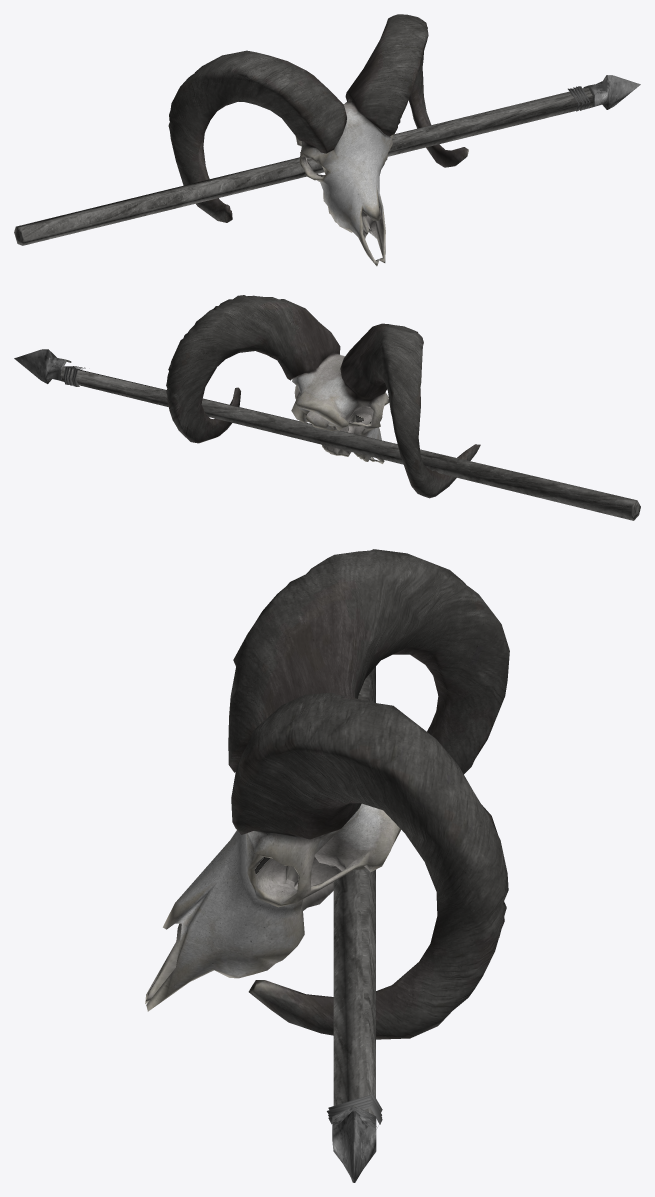
File: palka_2.glb
3 views of the same model, one above another, from view 1: azimuth 30°, elevation 25°; view 2: azimuth 150°, elevation 25°; view 3: azimuth 270°, elevation 25° (orthographic). The views are drawn at different scales.
Parts seen in each view (by area): view 1: palka_2; view 2: palka_2; view 3: palka_2.
Boxes of the visible parts, x1,y1,x2,y2 form: palka_2: (14, 14, 640, 266); palka_2: (14, 295, 640, 520); palka_2: (145, 549, 509, 1182).
Size of the model in its own units: 84.22 by 24.43 by 21.41.
4 materials, 3 textured.
